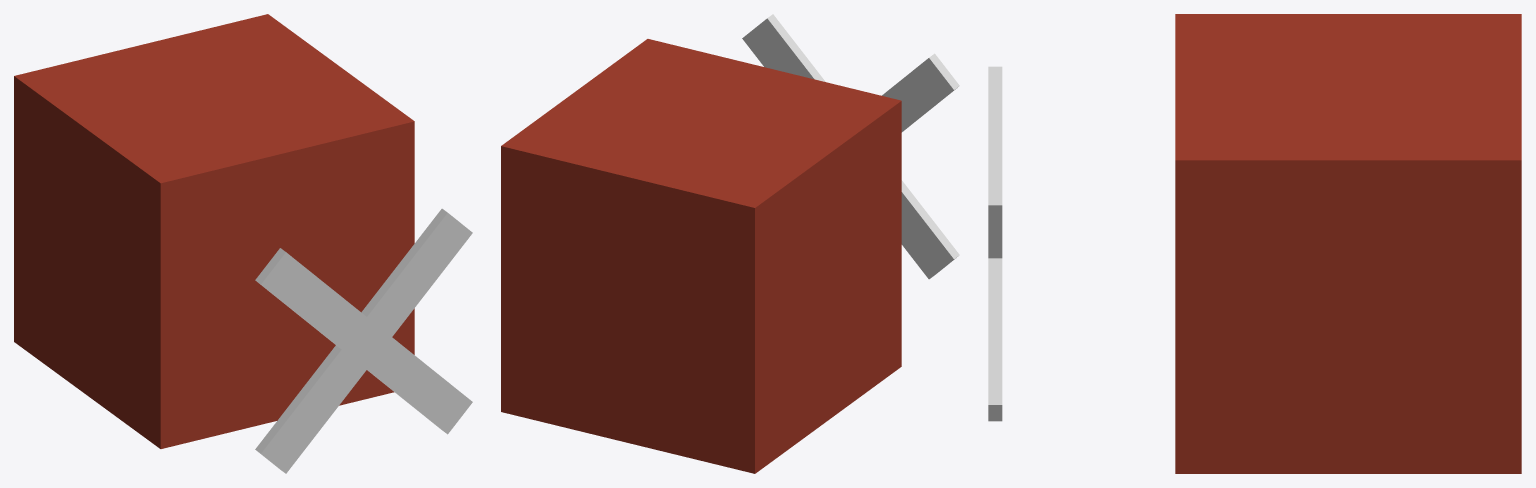
Rendered from xbox_red.glb.
The picture shows the model from 3 angles, left to right: view 1: azimuth 30°, elevation 25°; view 2: azimuth 150°, elevation 25°; view 3: azimuth 270°, elevation 25°; orthographic projection. The views are drawn at different scales.
Parts seen in each view (by area): view 1: Cube; view 2: Cube; view 3: Cube.
Boxes of the visible parts, x1=… form: Cube: x1=14, y1=14, x2=472, y2=473; Cube: x1=501, y1=14, x2=959, y2=473; Cube: x1=988, y1=14, x2=1521, y2=473.
Size of the model in its own units: 0.375 by 0.375 by 0.5775.
